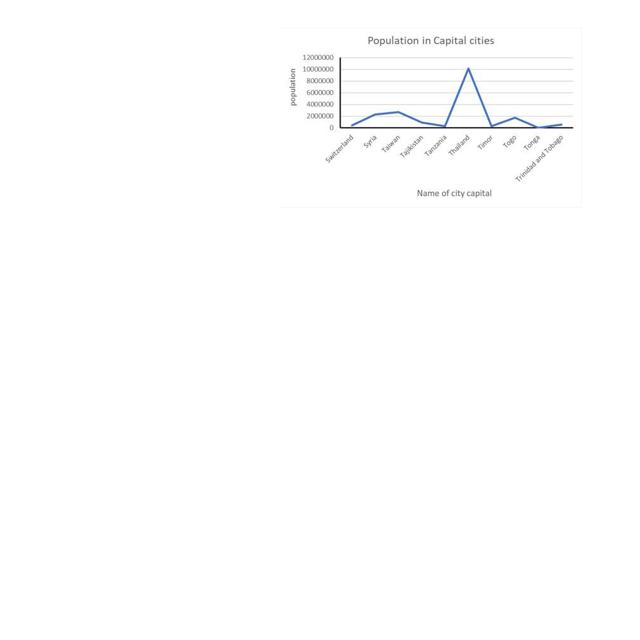Graph: (280, 27, 582, 208)
